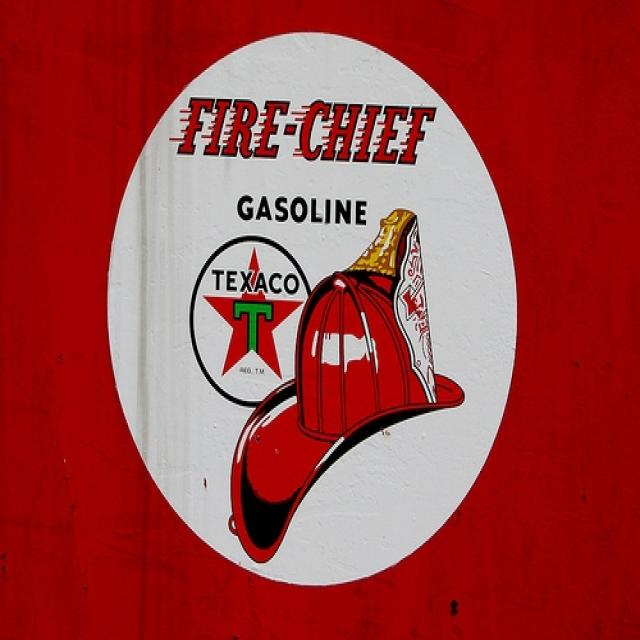texaco: (192, 238, 308, 406)
